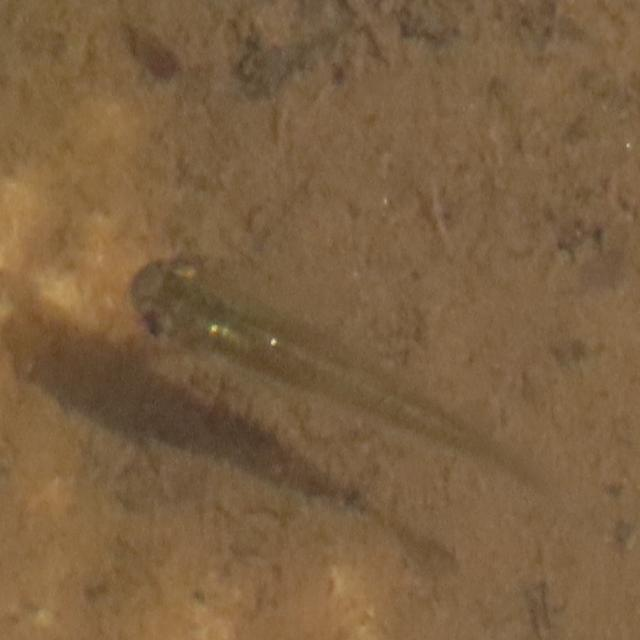Sivrisinek Baligi: (130, 226, 562, 506)
